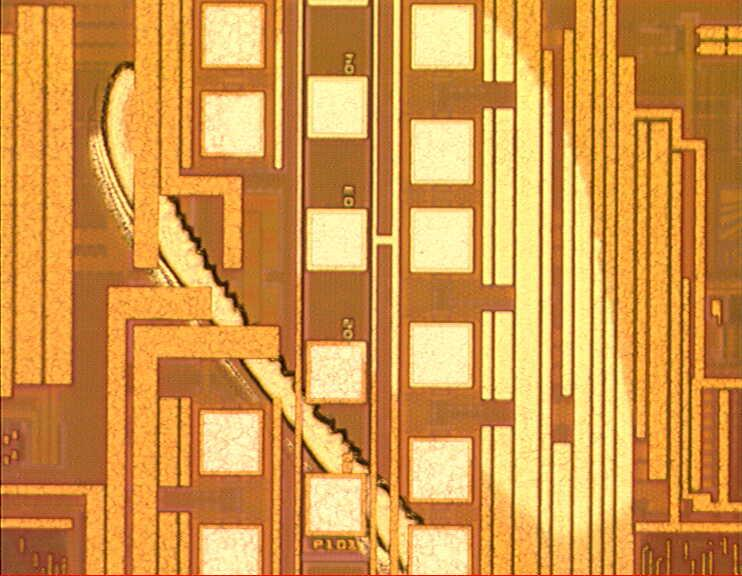COATING BAD: (78, 2, 662, 576)
